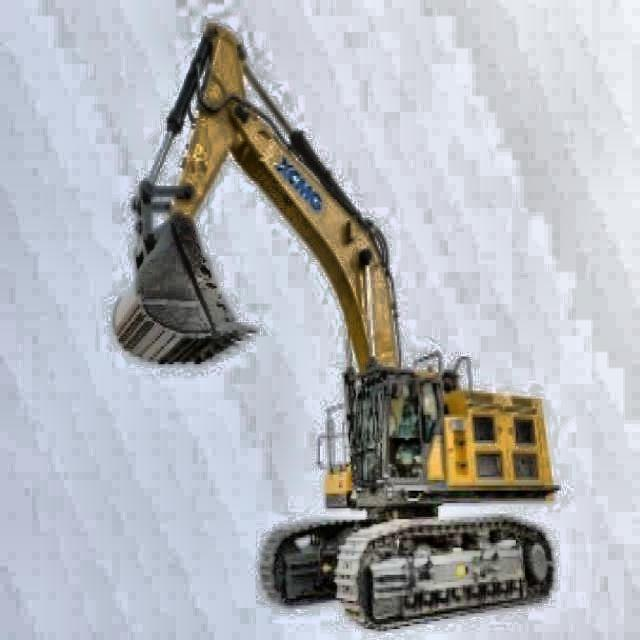bull_dozer/loader/grader: (108, 19, 560, 634)
person: (394, 398, 417, 442)
